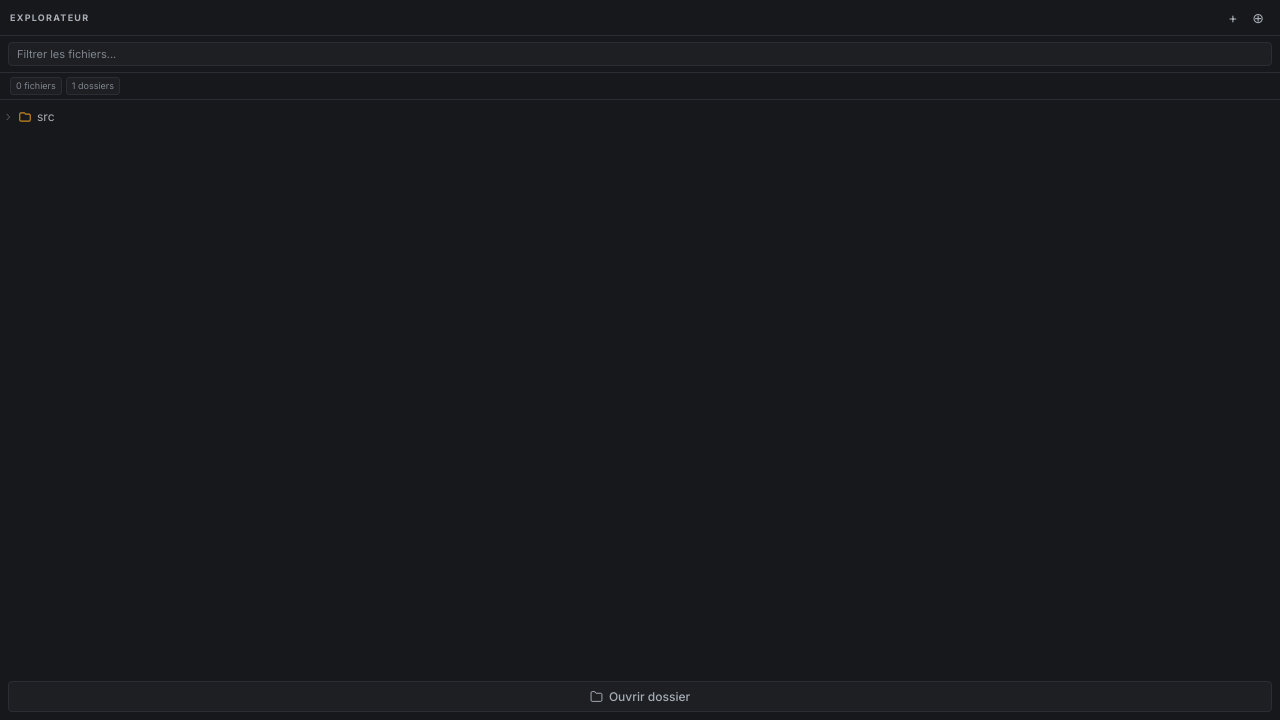
Test: FileExplorer uses the shared dialog for creating an item inside a folder
Right-click the button "src".
right_click(25, 116)  # box x1=16 y1=106 x2=1220 y2=128
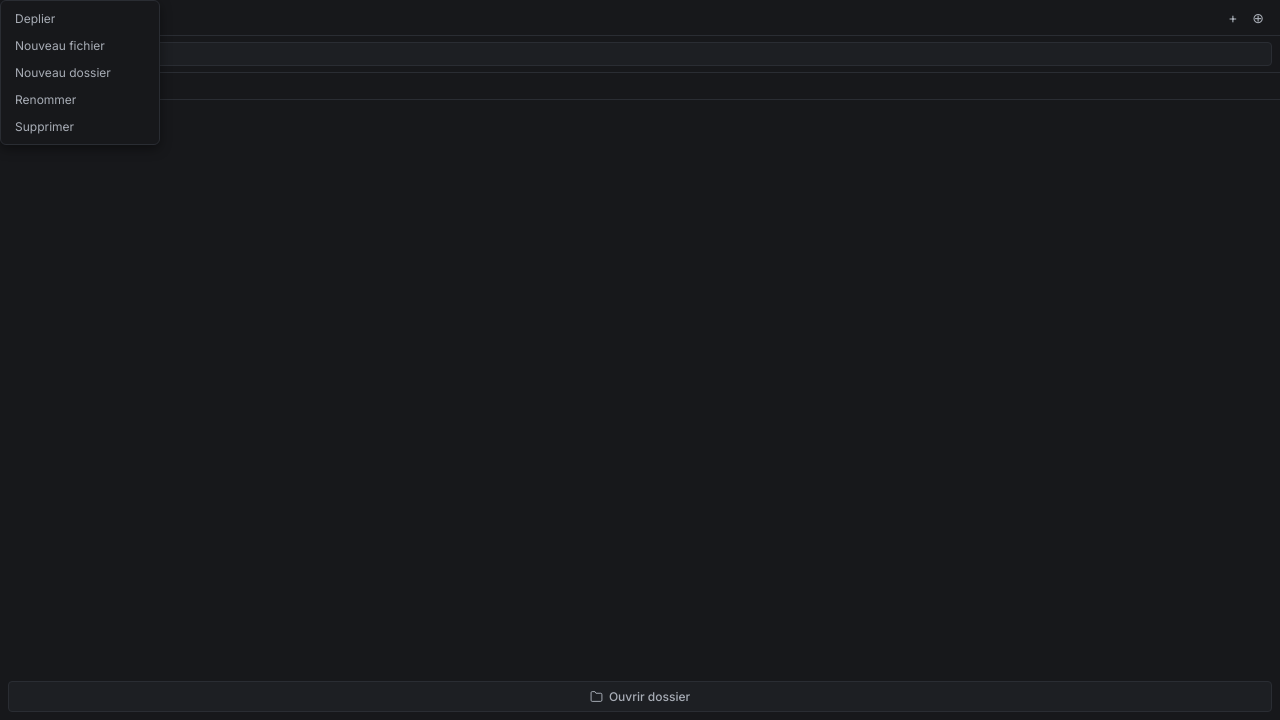
Click the button "Nouveau fichier".
click(80, 46)  # box x1=5 y1=32 x2=155 y2=59
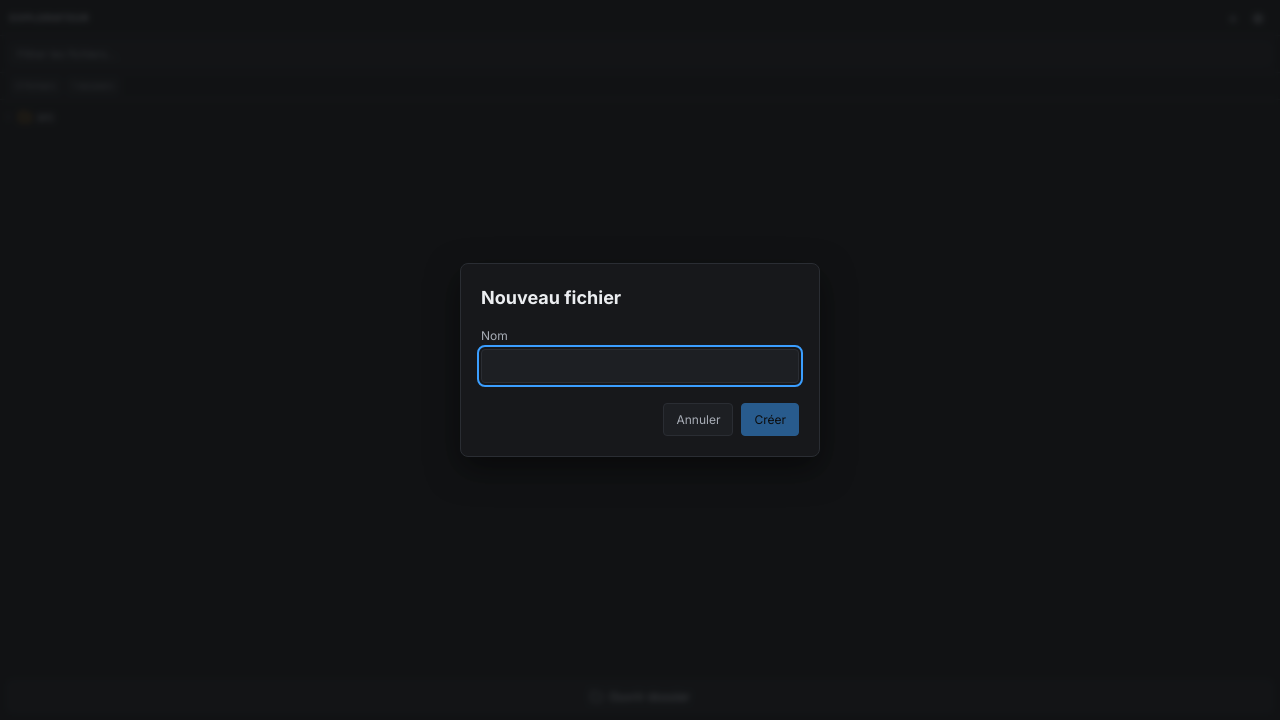
Type "index.js" into the field labelled "Nom".
click(640, 366); type("index.js")  # box x1=481 y1=349 x2=799 y2=383
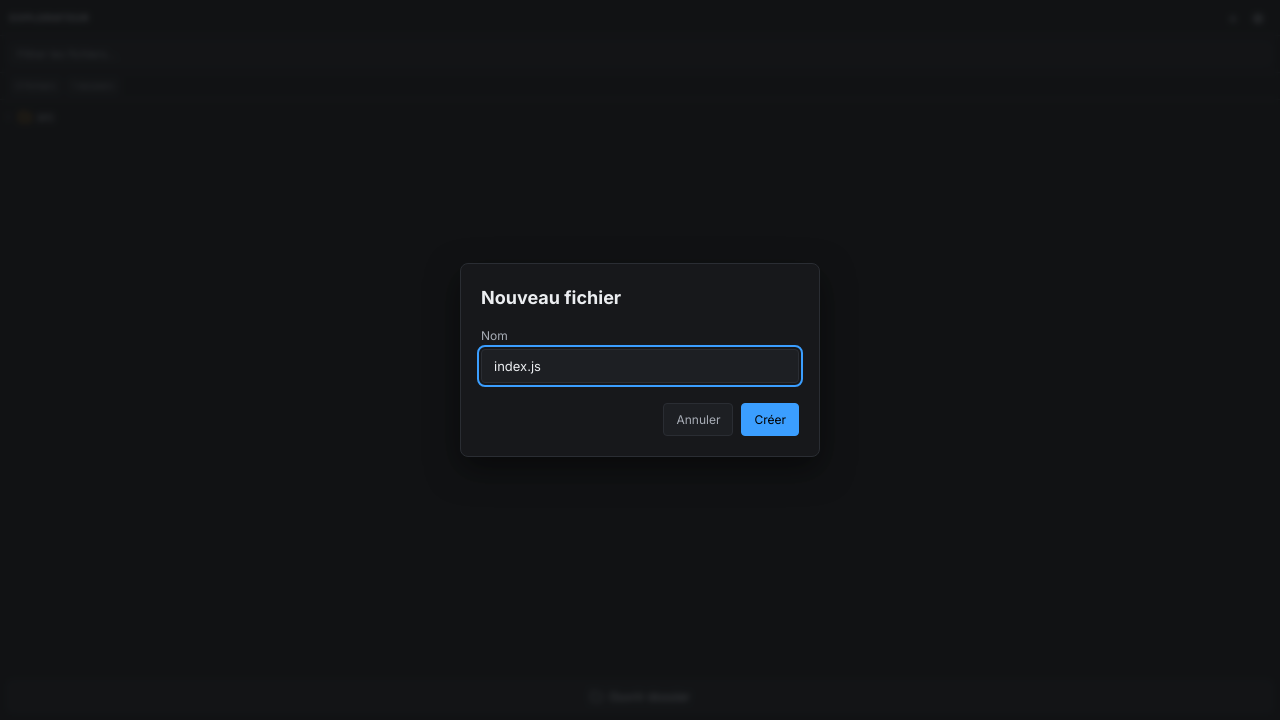
Click the button "Créer".
click(770, 420)  # box x1=741 y1=403 x2=799 y2=436
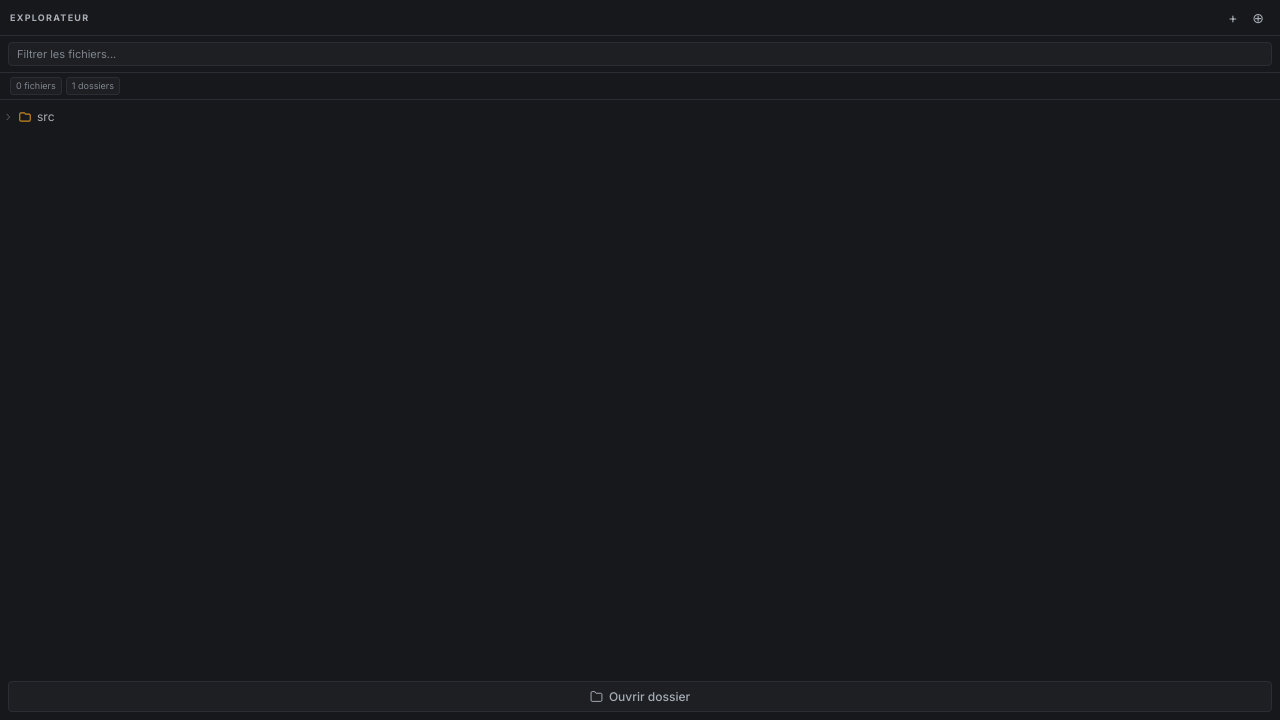
Result: the dialog is gone
